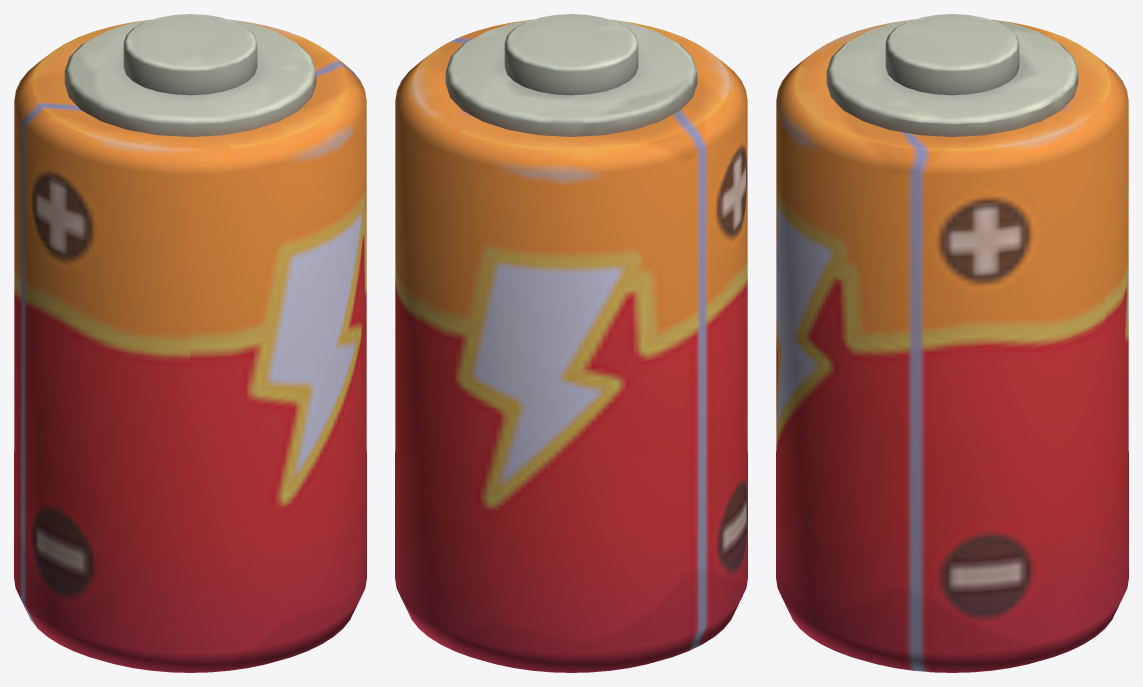
Rendered from dianchi.fbx.
3 views of the same model, side by side, from view 1: azimuth 30°, elevation 25°; view 2: azimuth 150°, elevation 25°; view 3: azimuth 270°, elevation 25° (orthographic).
Visible parts, largest first — view 1: DianChi; view 2: DianChi; view 3: DianChi.
Part boxes in pixels (x1,y1,x2,y2): DianChi: (14, 14, 366, 672); DianChi: (395, 14, 747, 672); DianChi: (776, 14, 1128, 672).
Size of the model in its own units: 32.47 by 58.01 by 32.47.
